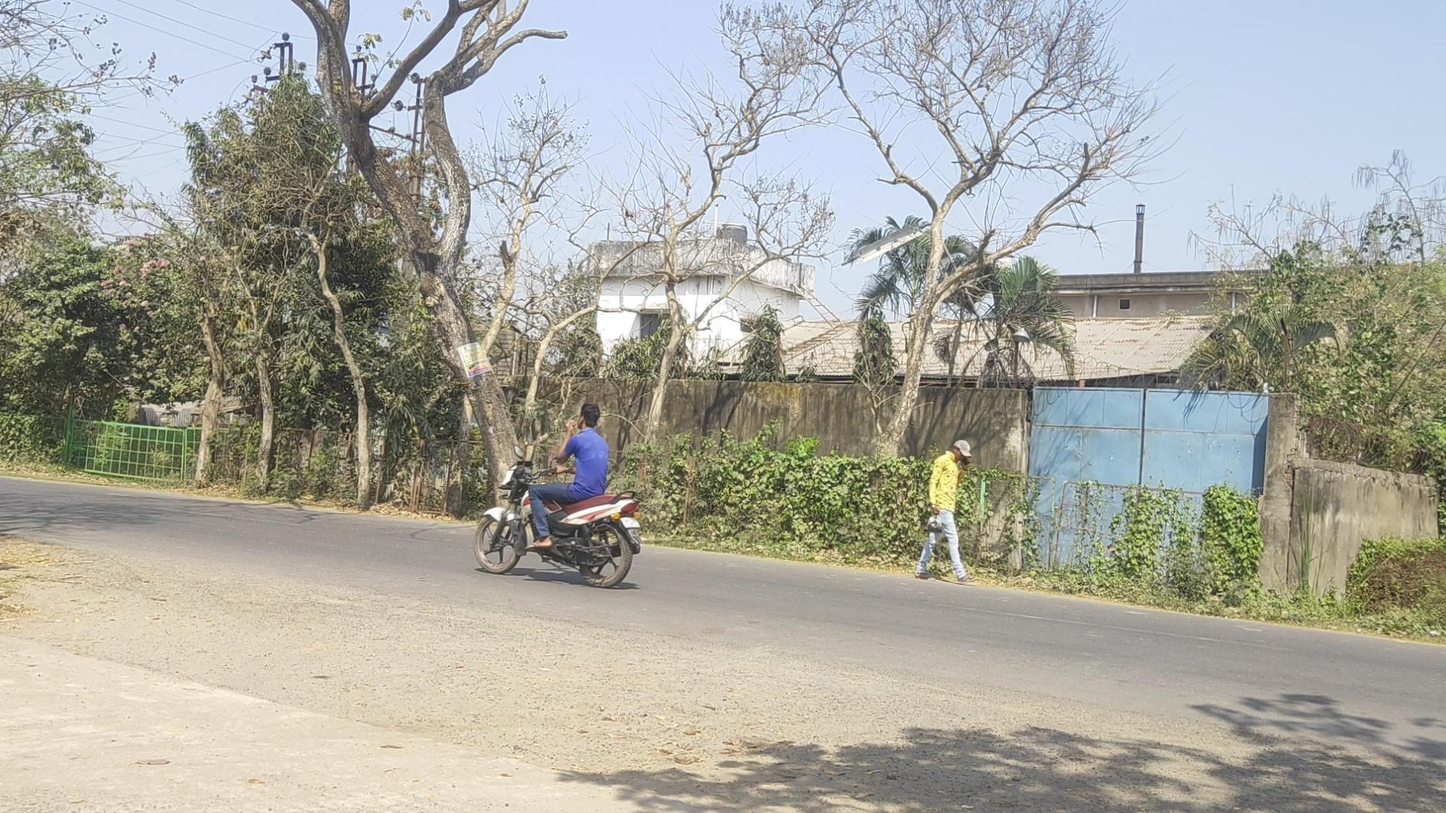bike: (473, 402, 639, 586)
